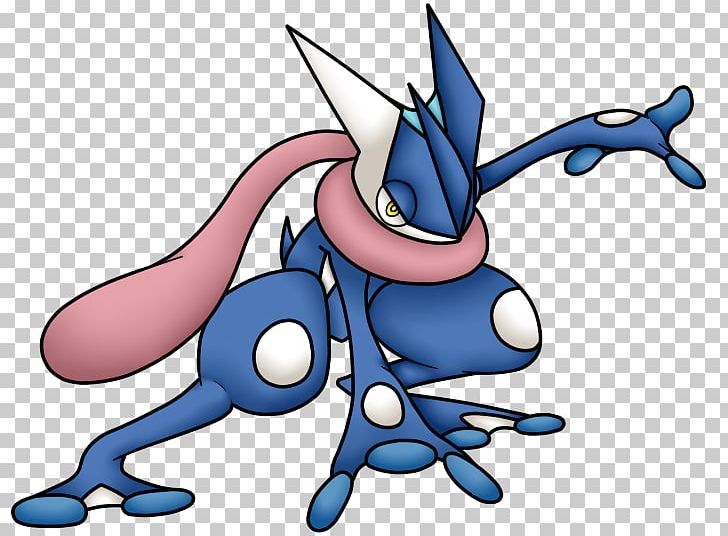greninja: (1, 3, 710, 535)
